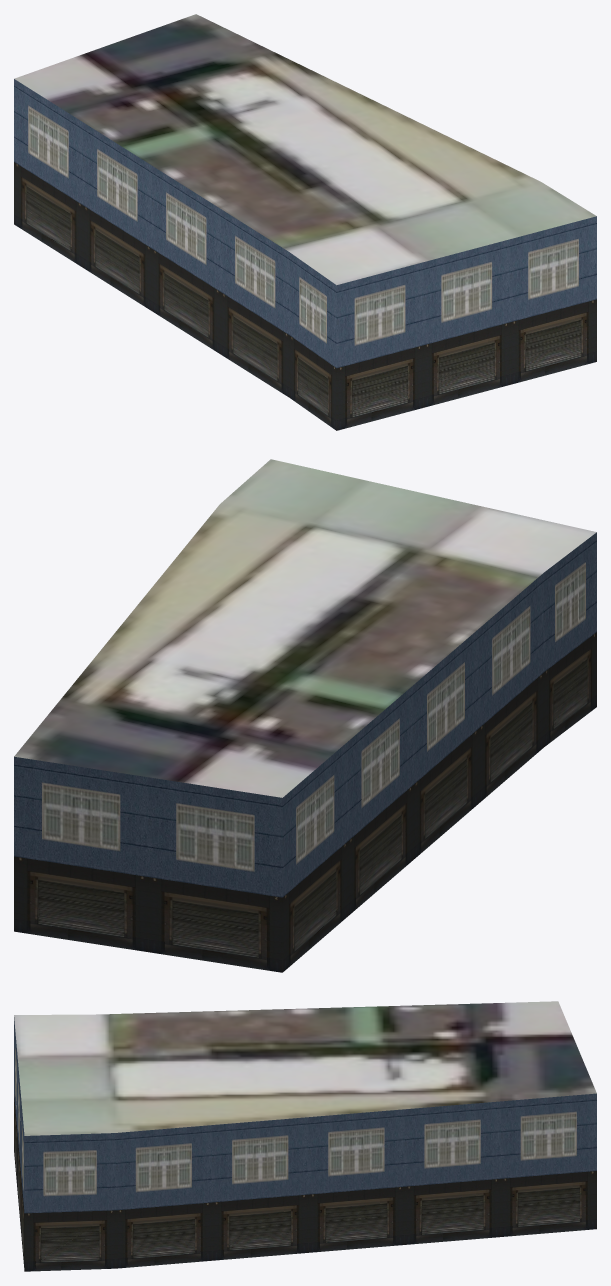
File: T_1T0M74NUSF.dae
3 views of the same model, one above another, from view 1: azimuth 30°, elevation 25°; view 2: azimuth 150°, elevation 25°; view 3: azimuth 270°, elevation 25° (orthographic). The views are drawn at different scales.
Parts seen in each view (by area): view 1: SketchUp (×7); view 2: SketchUp (×7); view 3: SketchUp (×7).
Part boxes in pixels (<box>): SketchUp (×7): <box>14,14,596,430</box>; SketchUp (×7): <box>14,459,596,972</box>; SketchUp (×7): <box>14,1001,596,1271</box>.
Size of the model in its own units: 16.35 by 29.91 by 7.68.
Materials: 3 (3 with a texture image).
